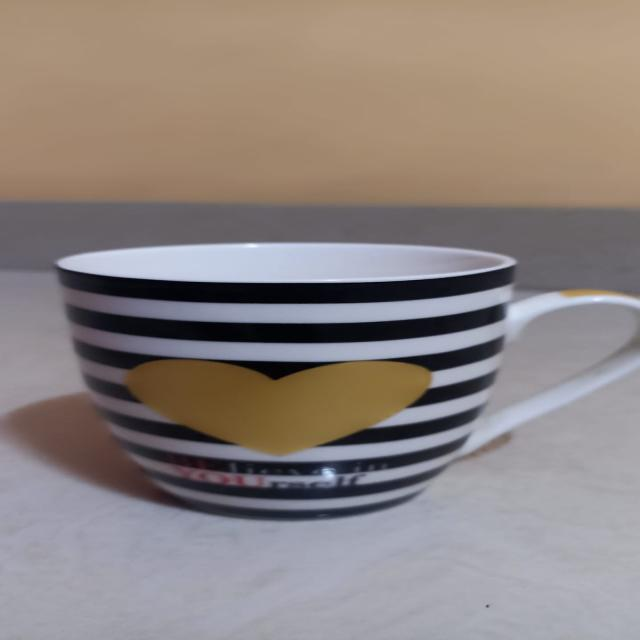cup: (36, 237, 640, 530)
